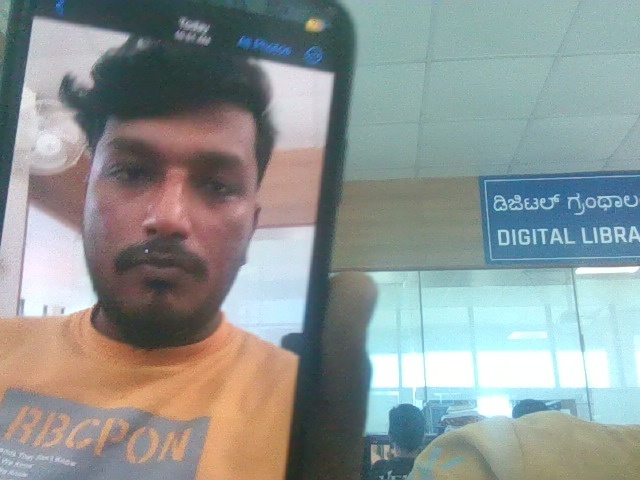fake: (57, 12, 294, 348)
